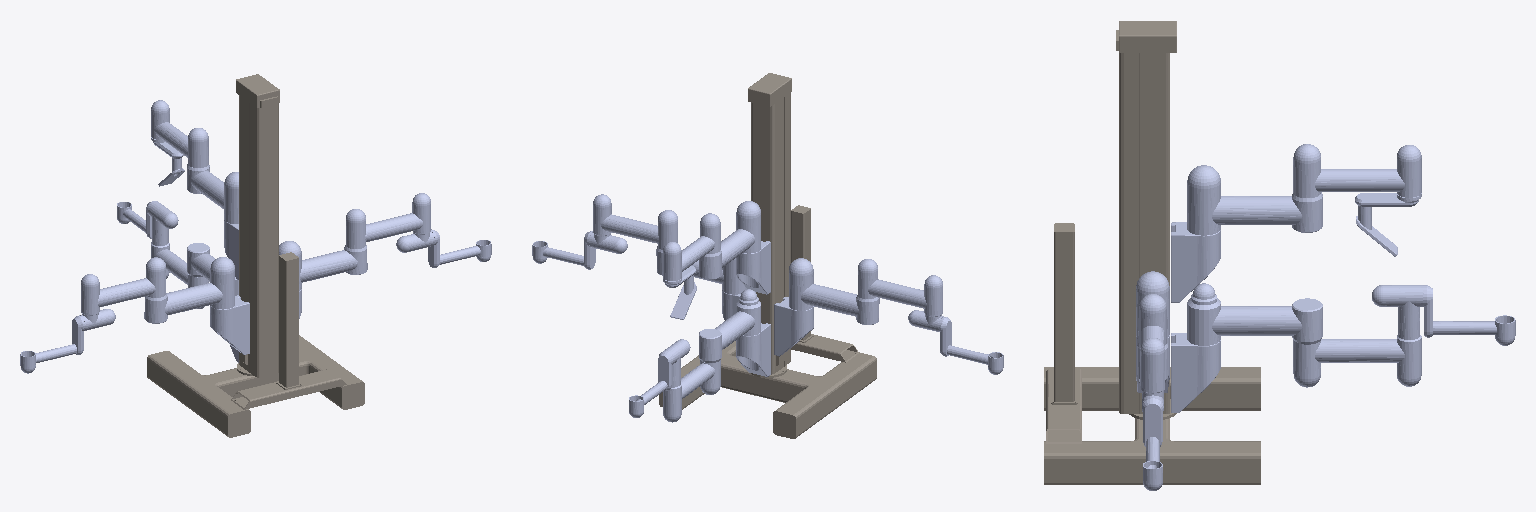
--- Facts derived from the render (not from the file) ---
3 views of the same robot in one strip: view 1: azimuth 30°, elevation 25°; view 2: azimuth 150°, elevation 25°; view 3: azimuth 270°, elevation 25° (orthographic).
Robot: Cart — 20 links, 19 joints (15 continuous, 4 prismatic); root link base_link; default pose: every joint at zero.
Links seen in each view (by area): view 1: base_link, C_A4_L1, C_A4_L2, C_A1_L2, C_A1_L1, C_A2_L2, C_A2_L1, C_A4_L0, C_A4_L4, C_A1_L4, C_A3_L3, C_A3_L1 (+5 smaller); view 2: base_link, C_A4_L1, C_A4_L2, C_A3_L1, C_A2_L1, C_A1_L2, C_A2_L2, C_A3_L2, C_A4_L0, C_A3_L0, C_A2_L0, C_A4_L4 (+6 smaller); view 3: base_link, C_A2_L1, C_A3_L1, C_A2_L2, C_A3_L2, C_A2_L0, C_A3_L0, C_A1_L2, C_A3_L4, C_A3_L3, C_A1_L4, C_A2_L3 (+1 smaller).
Link boxes in pixels (box(x1,y1,x2,y2)): base_link: box(147, 74, 364, 437); C_A4_L1: box(144, 257, 234, 323); C_A4_L2: box(81, 257, 165, 313); C_A1_L2: box(346, 193, 430, 248); C_A1_L1: box(279, 241, 367, 290); C_A2_L2: box(151, 100, 208, 167); C_A2_L1: box(187, 164, 238, 223); C_A4_L0: box(210, 295, 249, 354); C_A4_L4: box(20, 315, 84, 373); C_A1_L4: box(428, 229, 491, 267); C_A3_L3: box(148, 202, 178, 248); C_A3_L1: box(187, 243, 238, 295); base_link: box(659, 73, 876, 438); C_A4_L1: box(789, 258, 879, 324); C_A4_L2: box(858, 259, 942, 314); C_A3_L1: box(699, 289, 760, 362); C_A2_L1: box(699, 201, 760, 279); C_A1_L2: box(593, 194, 677, 249); C_A2_L2: box(663, 213, 720, 280); C_A3_L2: box(663, 360, 720, 422); C_A4_L0: box(774, 297, 813, 356); C_A3_L0: box(736, 323, 770, 376); C_A2_L0: box(736, 241, 770, 294); C_A4_L4: box(939, 317, 1003, 374); base_link: box(1044, 21, 1260, 484); C_A2_L1: box(1187, 165, 1322, 235); C_A3_L1: box(1187, 283, 1322, 345); C_A2_L2: box(1293, 144, 1421, 197); C_A3_L2: box(1293, 339, 1421, 387); C_A2_L0: box(1171, 222, 1220, 302); C_A3_L0: box(1171, 333, 1220, 412); C_A1_L2: box(1139, 294, 1166, 390); C_A3_L4: box(1423, 285, 1515, 345); C_A3_L3: box(1372, 285, 1422, 343); C_A1_L4: box(1142, 397, 1163, 490); C_A2_L3: box(1355, 193, 1421, 256).
Size in the robot's own frame: 3.12 by 2.03 by 1.97 metres.
Meshes: 20 distinct files referenced, 20 mesh visuals loaded (20 binary STL).

URDF robot description (Cart):
<robot
  name="Cart">
  <link
    name="base_link">
    <inertial>
      <origin
        xyz="-0.557849193874323 -0.813264262886105 0.645007171697147"
        rpy="0 0 0" />
      <mass
        value="177.817385553285" />
      <inertia
        ixx="96.5051304293487"
        ixy="-4.96248399612141E-06"
        ixz="3.35340925263716E-05"
        iyy="98.379534963888"
        iyz="-0.78538915055125"
        izz="19.0575205424658" />
    </inertial>
    <visual>
      <origin
        xyz="0 0 0"
        rpy="0 0 0" />
      <geometry>
        <mesh
          filename="package://Cart/meshes/base_link.stl" />
      </geometry>
      <material
        name="">
        <color
          rgba="0.647058823529412 0.619607843137255 0.588235294117647 1" />
      </material>
    </visual>
    <collision>
      <origin
        xyz="0 0 0"
        rpy="0 0 0" />
      <geometry>
        <mesh
          filename="package://Cart/meshes/base_link.stl" />
      </geometry>
    </collision>
  </link>
  <link
    name="C_A1_L0">
    <inertial>
      <origin
        xyz="0.075953578554958 -2.03636284834552E-07 0.143692250626163"
        rpy="0 0 0" />
      <mass
        value="11.0926940805219" />
      <inertia
        ixx="0.10560942970055"
        ixy="-5.05140460543134E-07"
        ixz="-0.0121806324947753"
        iyy="0.109590130168998"
        iyz="-1.95142624563224E-07"
        izz="0.0469067208116145" />
    </inertial>
    <visual>
      <origin
        xyz="0 0 0"
        rpy="0 0 0" />
      <geometry>
        <mesh
          filename="package://Cart/meshes/C_A1_L0.stl" />
      </geometry>
      <material
        name="">
        <color
          rgba="0.792156862745098 0.819607843137255 0.933333333333333 1" />
      </material>
    </visual>
    <collision>
      <origin
        xyz="0 0 0"
        rpy="0 0 0" />
      <geometry>
        <mesh
          filename="package://Cart/meshes/C_A1_L0.stl" />
      </geometry>
    </collision>
  </link>
  <joint
    name="C_A1_L0"
    type="prismatic">
    <origin
      xyz="-0.33735 -0.75532 0.61185"
      rpy="-3.1416 -1.1102E-14 3.1416" />
    <parent
      link="base_link" />
    <child
      link="C_A1_L0" />
    <axis
      xyz="0 0 -1" />
    <limit
      lower="0"
      upper="1.2223"
      effort="50"
      velocity="50" />
  </joint>
  <link
    name="C_A1_L1">
    <inertial>
      <origin
        xyz="-2.44362590706704E-06 0.187250782553175 -0.108487242469459"
        rpy="0 0 0" />
      <mass
        value="4.35187990646796" />
      <inertia
        ixx="0.174355409525625"
        ixy="8.33391444074635E-07"
        ixz="1.21244554738311E-07"
        iyy="0.0321699406659818"
        iyz="-0.0223552208986747"
        izz="0.160834852672872" />
    </inertial>
    <visual>
      <origin
        xyz="0 0 0"
        rpy="0 0 0" />
      <geometry>
        <mesh
          filename="package://Cart/meshes/C_A1_L1.stl" />
      </geometry>
      <material
        name="">
        <color
          rgba="0.792156862745098 0.819607843137255 0.933333333333333 1" />
      </material>
    </visual>
    <collision>
      <origin
        xyz="0 0 0"
        rpy="0 0 0" />
      <geometry>
        <mesh
          filename="package://Cart/meshes/C_A1_L1.stl" />
      </geometry>
    </collision>
  </link>
  <joint
    name="C_A1_L1"
    type="continuous">
    <origin
      xyz="0 0 0"
      rpy="-1.11022302462517E-14 0 1.5707963267949" />
    <parent
      link="C_A1_L0" />
    <child
      link="C_A1_L1" />
    <axis
      xyz="0 0 -1" />
  </joint>
  <link
    name="C_A1_L2">
    <inertial>
      <origin
        xyz="0.212057687401799 -6.03601295601219E-06 0.0904988108593199"
        rpy="0 0 0" />
      <mass
        value="3.40100692221784" />
      <inertia
        ixx="0.0171438557598793"
        ixy="1.18000074447512E-06"
        ixz="0.00104805117272118"
        iyy="0.126224646339105"
        iyz="-5.52416303730912E-07"
        izz="0.118325883705" />
    </inertial>
    <visual>
      <origin
        xyz="0 0 0"
        rpy="0 0 0" />
      <geometry>
        <mesh
          filename="package://Cart/meshes/C_A1_L2.stl" />
      </geometry>
      <material
        name="">
        <color
          rgba="0.792156862745098 0.819607843137255 0.933333333333333 1" />
      </material>
    </visual>
    <collision>
      <origin
        xyz="0 0 0"
        rpy="0 0 0" />
      <geometry>
        <mesh
          filename="package://Cart/meshes/C_A1_L2.stl" />
      </geometry>
    </collision>
  </link>
  <joint
    name="C_A1_L2"
    type="continuous">
    <origin
      xyz="0 0.4445 -0.171"
      rpy="3.14159265358979 0 1.5707963267949" />
    <parent
      link="C_A1_L1" />
    <child
      link="C_A1_L2" />
    <axis
      xyz="0 0 1" />
  </joint>
  <link
    name="C_A1_L3">
    <inertial>
      <origin
        xyz="-7.80618542028932E-07 0.0671596733734499 -0.0458074866733074"
        rpy="0 0 0" />
      <mass
        value="0.955185180813725" />
      <inertia
        ixx="0.00502060305122404"
        ixy="1.37380469784994E-08"
        ixz="6.07283892713778E-08"
        iyy="0.0048525897193261"
        iyz="0.000255460605424329"
        izz="0.00220471024636927" />
    </inertial>
    <visual>
      <origin
        xyz="0 0 0"
        rpy="0 0 0" />
      <geometry>
        <mesh
          filename="package://Cart/meshes/C_A1_L3.stl" />
      </geometry>
      <material
        name="">
        <color
          rgba="0.792156862745098 0.819607843137255 0.933333333333333 1" />
      </material>
    </visual>
    <collision>
      <origin
        xyz="0 0 0"
        rpy="0 0 0" />
      <geometry>
        <mesh
          filename="package://Cart/meshes/C_A1_L3.stl" />
      </geometry>
    </collision>
  </link>
  <joint
    name="C_A1_L3"
    type="continuous">
    <origin
      xyz="0.43815 0 0"
      rpy="-1.5707963267949 0 -1.5707963267949" />
    <parent
      link="C_A1_L2" />
    <child
      link="C_A1_L3" />
    <axis
      xyz="0 -1 0" />
  </joint>
  <link
    name="C_A1_L4">
    <inertial>
      <origin
        xyz="4.70384754480691E-08 0.128588326667814 0.0987103875643585"
        rpy="0 0 0" />
      <mass
        value="3.11504410574449" />
      <inertia
        ixx="0.0796456742281321"
        ixy="-2.48551056610334E-08"
        ixz="-1.34409390260954E-09"
        iyy="0.0186083564141078"
        iyz="-0.0226942177256411"
        izz="0.0642473147196267" />
    </inertial>
    <visual>
      <origin
        xyz="0 0 0"
        rpy="0 0 0" />
      <geometry>
        <mesh
          filename="package://Cart/meshes/C_A1_L4.stl" />
      </geometry>
      <material
        name="">
        <color
          rgba="0.792156862745098 0.819607843137255 0.933333333333333 1" />
      </material>
    </visual>
    <collision>
      <origin
        xyz="0 0 0"
        rpy="0 0 0" />
      <geometry>
        <mesh
          filename="package://Cart/meshes/C_A1_L4.stl" />
      </geometry>
    </collision>
  </link>
  <joint
    name="C_A1_L4"
    type="continuous">
    <origin
      xyz="0 0.0830000000000001 0.0600000000000001"
      rpy="1.5707963267949 0 3.14159265358979" />
    <parent
      link="C_A1_L3" />
    <child
      link="C_A1_L4" />
    <axis
      xyz="0 1 0" />
  </joint>
  <link
    name="C_A2_L0">
    <inertial>
      <origin
        xyz="0.0759535785549599 -2.03636285056596E-07 0.143692250626162"
        rpy="0 0 0" />
      <mass
        value="11.0926940805219" />
      <inertia
        ixx="0.10560942970055"
        ixy="-5.0514046057063E-07"
        ixz="-0.012180632494776"
        iyy="0.109590130168998"
        iyz="-1.95142624537163E-07"
        izz="0.0469067208116149" />
    </inertial>
    <visual>
      <origin
        xyz="0 0 0"
        rpy="0 0 0" />
      <geometry>
        <mesh
          filename="package://Cart/meshes/C_A2_L0.stl" />
      </geometry>
      <material
        name="">
        <color
          rgba="0.792156862745098 0.819607843137255 0.933333333333333 1" />
      </material>
    </visual>
    <collision>
      <origin
        xyz="0 0 0"
        rpy="0 0 0" />
      <geometry>
        <mesh
          filename="package://Cart/meshes/C_A2_L0.stl" />
      </geometry>
    </collision>
  </link>
  <joint
    name="C_A2_L0"
    type="prismatic">
    <origin
      xyz="-0.55785 -0.53482 1.0137"
      rpy="3.1416 -6.123E-17 -1.5708" />
    <parent
      link="base_link" />
    <child
      link="C_A2_L0" />
    <axis
      xyz="0 0 -1" />
    <limit
      lower="0"
      upper="0.82045"
      effort="50"
      velocity="50" />
  </joint>
  <link
    name="C_A2_L1">
    <inertial>
      <origin
        xyz="-2.44380844383052E-06 -0.187250782553173 0.108487242469458"
        rpy="0 0 0" />
      <mass
        value="4.35187990646815" />
      <inertia
        ixx="0.174355409525629"
        ixy="-8.33530046686598E-07"
        ixz="-1.21266348753841E-07"
        iyy="0.0321699406659832"
        iyz="-0.0223552208986752"
        izz="0.160834852672877" />
    </inertial>
    <visual>
      <origin
        xyz="0 0 0"
        rpy="0 0 0" />
      <geometry>
        <mesh
          filename="package://Cart/meshes/C_A2_L1.stl" />
      </geometry>
      <material
        name="">
        <color
          rgba="0.792156862745098 0.819607843137255 0.933333333333333 1" />
      </material>
    </visual>
    <collision>
      <origin
        xyz="0 0 0"
        rpy="0 0 0" />
      <geometry>
        <mesh
          filename="package://Cart/meshes/C_A2_L1.stl" />
      </geometry>
    </collision>
  </link>
  <joint
    name="C_A2_L1"
    type="continuous">
    <origin
      xyz="0 0 0"
      rpy="3.14159265358979 0 1.5707963267949" />
    <parent
      link="C_A2_L0" />
    <child
      link="C_A2_L1" />
    <axis
      xyz="0 0 1" />
  </joint>
  <link
    name="C_A2_L2">
    <inertial>
      <origin
        xyz="0.212057687401794 6.03665296139422E-06 -0.0904988108593126"
        rpy="0 0 0" />
      <mass
        value="3.40100692221722" />
      <inertia
        ixx="0.0171438557598805"
        ixy="-1.18010707869087E-06"
        ixz="-0.00104805117272175"
        iyy="0.126224646339101"
        iyz="-5.52417327070742E-07"
        izz="0.118325883704996" />
    </inertial>
    <visual>
      <origin
        xyz="0 0 0"
        rpy="0 0 0" />
      <geometry>
        <mesh
          filename="package://Cart/meshes/C_A2_L2.stl" />
      </geometry>
      <material
        name="">
        <color
          rgba="0.792156862745098 0.819607843137255 0.933333333333333 1" />
      </material>
    </visual>
    <collision>
      <origin
        xyz="0 0 0"
        rpy="0 0 0" />
      <geometry>
        <mesh
          filename="package://Cart/meshes/C_A2_L2.stl" />
      </geometry>
    </collision>
  </link>
  <joint
    name="C_A2_L2"
    type="continuous">
    <origin
      xyz="0 -0.4445 0.171"
      rpy="3.14159265358979 0 -1.5707963267949" />
    <parent
      link="C_A2_L1" />
    <child
      link="C_A2_L2" />
    <axis
      xyz="0 0 -1" />
  </joint>
  <link
    name="C_A2_L3">
    <inertial>
      <origin
        xyz="0.101768197599805 0.0781722391509527 -9.32107030449103E-08"
        rpy="0 0 0" />
      <mass
        value="3.4650484513455" />
      <inertia
        ixx="0.0231009121493162"
        ixy="-0.00596525910973689"
        ixz="3.34337024083484E-08"
        iyy="0.0229730063480829"
        iyz="2.41536265588646E-08"
        izz="0.0423496868455047" />
    </inertial>
    <visual>
      <origin
        xyz="0 0 0"
        rpy="0 0 0" />
      <geometry>
        <mesh
          filename="package://Cart/meshes/C_A2_L3.stl" />
      </geometry>
      <material
        name="">
        <color
          rgba="0.792156862745098 0.819607843137255 0.933333333333333 1" />
      </material>
    </visual>
    <collision>
      <origin
        xyz="0 0 0"
        rpy="0 0 0" />
      <geometry>
        <mesh
          filename="package://Cart/meshes/C_A2_L3.stl" />
      </geometry>
    </collision>
  </link>
  <joint
    name="C_A2_L3"
    type="continuous">
    <origin
      xyz="0.43815 0 0"
      rpy="1.5707963267949 0 3.14159265358979" />
    <parent
      link="C_A2_L2" />
    <child
      link="C_A2_L3" />
    <axis
      xyz="0 -1 0" />
  </joint>
  <link
    name="C_A3_L0">
    <inertial>
      <origin
        xyz="0.0759535785549602 -2.03636284612507E-07 0.143692250626162"
        rpy="0 0 0" />
      <mass
        value="11.0926940805219" />
      <inertia
        ixx="0.10560942970055"
        ixy="-5.05140460539399E-07"
        ixz="-0.0121806324947762"
        iyy="0.109590130168997"
        iyz="-1.95142624557971E-07"
        izz="0.0469067208116145" />
    </inertial>
    <visual>
      <origin
        xyz="0 0 0"
        rpy="0 0 0" />
      <geometry>
        <mesh
          filename="package://Cart/meshes/C_A3_L0.stl" />
      </geometry>
      <material
        name="">
        <color
          rgba="0.792156862745098 0.819607843137255 0.933333333333333 1" />
      </material>
    </visual>
    <collision>
      <origin
        xyz="0 0 0"
        rpy="0 0 0" />
      <geometry>
        <mesh
          filename="package://Cart/meshes/C_A3_L0.stl" />
      </geometry>
    </collision>
  </link>
  <joint
    name="C_A3_L0"
    type="prismatic">
    <origin
      xyz="-0.55785 -0.53482 0.48985"
      rpy="3.1416 -6.123E-17 -1.5708" />
    <parent
      link="base_link" />
    <child
      link="C_A3_L0" />
    <axis
      xyz="0 0 -1" />
    <limit
      lower="0"
      upper="0.82045"
      effort="50"
      velocity="50" />
  </joint>
  <link
    name="C_A3_L1">
    <inertial>
      <origin
        xyz="-6.86961344475989E-07 -0.201379579686525 0.0996902493558574"
        rpy="0 0 0" />
      <mass
        value="7.77379196971775" />
      <inertia
        ixx="0.291301856846876"
        ixy="-7.20625438292036E-07"
        ixz="-9.30061512483615E-08"
        iyy="0.041443547472612"
        iyz="-0.0165474441099319"
        izz="0.279800325563782" />
    </inertial>
    <visual>
      <origin
        xyz="0 0 0"
        rpy="0 0 0" />
      <geometry>
        <mesh
          filename="package://Cart/meshes/C_A3_L1.stl" />
      </geometry>
      <material
        name="">
        <color
          rgba="0.792156862745098 0.819607843137255 0.933333333333333 1" />
      </material>
    </visual>
    <collision>
      <origin
        xyz="0 0 0"
        rpy="0 0 0" />
      <geometry>
        <mesh
          filename="package://Cart/meshes/C_A3_L1.stl" />
      </geometry>
    </collision>
  </link>
  <joint
    name="C_A3_L1"
    type="continuous">
    <origin
      xyz="0 0 0"
      rpy="3.14159265358979 0 1.5707963267949" />
    <parent
      link="C_A3_L0" />
    <child
      link="C_A3_L1" />
    <axis
      xyz="0 0 1" />
  </joint>
  <link
    name="C_A3_L2">
    <inertial>
      <origin
        xyz="0.212057687401803 -6.03537295040812E-06 0.090498810859328"
        rpy="0 0 0" />
      <mass
        value="3.4010069222184" />
      <inertia
        ixx="0.0171438557598778"
        ixy="1.1798944102949E-06"
        ixz="0.00104805117272044"
        iyy="0.126224646339108"
        iyz="-5.52415280414858E-07"
        izz="0.118325883705004" />
    </inertial>
    <visual>
      <origin
        xyz="0 0 0"
        rpy="0 0 0" />
      <geometry>
        <mesh
          filename="package://Cart/meshes/C_A3_L2.stl" />
      </geometry>
      <material
        name="">
        <color
          rgba="0.792156862745098 0.819607843137255 0.933333333333333 1" />
      </material>
    </visual>
    <collision>
      <origin
        xyz="0 0 0"
        rpy="0 0 0" />
      <geometry>
        <mesh
          filename="package://Cart/meshes/C_A3_L2.stl" />
      </geometry>
    </collision>
  </link>
  <joint
    name="C_A3_L2"
    type="continuous">
    <origin
      xyz="0 -0.4445 0"
      rpy="3.14159265358979 0 -1.5707963267949" />
    <parent
      link="C_A3_L1" />
    <child
      link="C_A3_L2" />
    <axis
      xyz="0 0 -1" />
  </joint>
  <link
    name="C_A3_L3">
    <inertial>
      <origin
        xyz="-5.48926565646646E-07 -0.149272124807621 0.0296956113717952"
        rpy="0 0 0" />
      <mass
        value="1.47309340265676" />
      <inertia
        ixx="0.0132145111506709"
        ixy="-1.08032566856272E-07"
        ixz="2.89718779717797E-08"
        iyy="0.00662192684676566"
        iyz="0.00235985056985546"
        izz="0.0096948677474233" />
    </inertial>
    <visual>
      <origin
        xyz="0 0 0"
        rpy="0 0 0" />
      <geometry>
        <mesh
          filename="package://Cart/meshes/C_A3_L3.stl" />
      </geometry>
      <material
        name="">
        <color
          rgba="0.792156862745098 0.819607843137255 0.933333333333333 1" />
      </material>
    </visual>
    <collision>
      <origin
        xyz="0 0 0"
        rpy="0 0 0" />
      <geometry>
        <mesh
          filename="package://Cart/meshes/C_A3_L3.stl" />
      </geometry>
    </collision>
  </link>
  <joint
    name="C_A3_L3"
    type="continuous">
    <origin
      xyz="0.43815 0 0"
      rpy="1.5707963267949 0 -1.5707963267949" />
    <parent
      link="C_A3_L2" />
    <child
      link="C_A3_L3" />
    <axis
      xyz="0 -1 0" />
  </joint>
  <link
    name="C_A3_L4">
    <inertial>
      <origin
        xyz="4.69131279379198E-08 0.128588326667815 0.108710387564358"
        rpy="0 0 0" />
      <mass
        value="3.11504410574449" />
      <inertia
        ixx="0.0796456742281321"
        ixy="-2.47956065801551E-08"
        ixz="-1.32197163913809E-09"
        iyy="0.0186083564141077"
        iyz="-0.022694217725641"
        izz="0.0642473147196267" />
    </inertial>
    <visual>
      <origin
        xyz="0 0 0"
        rpy="0 0 0" />
      <geometry>
        <mesh
          filename="package://Cart/meshes/C_A3_L4.stl" />
      </geometry>
      <material
        name="">
        <color
          rgba="0.792156862745098 0.819607843137255 0.933333333333333 1" />
      </material>
    </visual>
    <collision>
      <origin
        xyz="0 0 0"
        rpy="0 0 0" />
      <geometry>
        <mesh
          filename="package://Cart/meshes/C_A3_L4.stl" />
      </geometry>
    </collision>
  </link>
  <joint
    name="C_A3_L4"
    type="continuous">
    <origin
      xyz="0 -0.203199999999999 -0.06"
      rpy="-1.5707963267949 0 0" />
    <parent
      link="C_A3_L3" />
    <child
      link="C_A3_L4" />
    <axis
      xyz="0 -1 0" />
  </joint>
  <link
    name="C_A4_L0">
    <inertial>
      <origin
        xyz="0.0859535785204426 -2.03645474483594E-07 0.143692250688602"
        rpy="0 0 0" />
      <mass
        value="11.0926940733976" />
      <inertia
        ixx="0.105609429627316"
        ixy="-5.05131095097567E-07"
        ixz="-0.0121806325387437"
        iyy="0.109590130077433"
        iyz="-1.95152527838409E-07"
        izz="0.0469067207933245" />
    </inertial>
    <visual>
      <origin
        xyz="0 0 0"
        rpy="0 0 0" />
      <geometry>
        <mesh
          filename="package://Cart/meshes/C_A4_L0.stl" />
      </geometry>
      <material
        name="">
        <color
          rgba="0.792156862745098 0.819607843137255 0.933333333333333 1" />
      </material>
    </visual>
    <collision>
      <origin
        xyz="0 0 0"
        rpy="0 0 0" />
      <geometry>
        <mesh
          filename="package://Cart/meshes/C_A4_L0.stl" />
      </geometry>
    </collision>
  </link>
  <joint
    name="C_A4_L0"
    type="prismatic">
    <origin
      xyz="-0.78835 -0.75532 0.61185"
      rpy="3.1416 -6.6613E-14 4.0788E-30" />
    <parent
      link="base_link" />
    <child
      link="C_A4_L0" />
    <axis
      xyz="0 0 -1" />
    <limit
      lower="0"
      upper="1.2223"
      effort="50"
      velocity="50" />
  </joint>
  <link
    name="C_A4_L1">
    <inertial>
      <origin
        xyz="-2.44380844316439E-06 0.187250782553174 -0.108487242469458"
        rpy="0 0 0" />
      <mass
        value="4.35187990646818" />
      <inertia
        ixx="0.174355409525629"
        ixy="8.33530046682483E-07"
        ixz="1.21266348725112E-07"
        iyy="0.0321699406659832"
        iyz="-0.0223552208986752"
        izz="0.160834852672877" />
    </inertial>
    <visual>
      <origin
        xyz="0 0 0"
        rpy="0 0 0" />
      <geometry>
        <mesh
          filename="package://Cart/meshes/C_A4_L1.stl" />
      </geometry>
      <material
        name="">
        <color
          rgba="0.792156862745098 0.819607843137255 0.933333333333333 1" />
      </material>
    </visual>
    <collision>
      <origin
        xyz="0 0 0"
        rpy="0 0 0" />
      <geometry>
        <mesh
          filename="package://Cart/meshes/C_A4_L1.stl" />
      </geometry>
    </collision>
  </link>
  <joint
    name="C_A4_L1"
    type="continuous">
    <origin
      xyz="0.01 0 0"
      rpy="-6.66133814775079E-14 0 1.5707963267949" />
    <parent
      link="C_A4_L0" />
    <child
      link="C_A4_L1" />
    <axis
      xyz="0 0 -1" />
  </joint>
  <link
    name="C_A4_L2">
    <inertial>
      <origin
        xyz="0.212057687401795 -6.0366529622824E-06 0.0904988108593124"
        rpy="0 0 0" />
      <mass
        value="3.40100692221721" />
      <inertia
        ixx="0.0171438557598805"
        ixy="1.18010707872497E-06"
        ixz="0.00104805117272164"
        iyy="0.1262246463391"
        iyz="-5.52417327106105E-07"
        izz="0.118325883704996" />
    </inertial>
    <visual>
      <origin
        xyz="0 0 0"
        rpy="0 0 0" />
      <geometry>
        <mesh
          filename="package://Cart/meshes/C_A4_L2.stl" />
      </geometry>
      <material
        name="">
        <color
          rgba="0.792156862745098 0.819607843137255 0.933333333333333 1" />
      </material>
    </visual>
    <collision>
      <origin
        xyz="0 0 0"
        rpy="0 0 0" />
      <geometry>
        <mesh
          filename="package://Cart/meshes/C_A4_L2.stl" />
      </geometry>
    </collision>
  </link>
  <joint
    name="C_A4_L2"
    type="continuous">
    <origin
      xyz="0 0.444499999999999 -0.171000000000001"
      rpy="3.14159265358979 0 1.5707963267949" />
    <parent
      link="C_A4_L1" />
    <child
      link="C_A4_L2" />
    <axis
      xyz="0 0 1" />
  </joint>
  <link
    name="C_A4_L3">
    <inertial>
      <origin
        xyz="-7.80663182209373E-07 -0.0671596733734502 0.0458074866733054"
        rpy="0 0 0" />
      <mass
        value="0.955185180813738" />
      <inertia
        ixx="0.00502060305122423"
        ixy="-1.37382965101666E-08"
        ixz="-6.0725644206211E-08"
        iyy="0.0048525897193261"
        iyz="0.000255460605424373"
        izz="0.00220471024636916" />
    </inertial>
    <visual>
      <origin
        xyz="0 0 0"
        rpy="0 0 0" />
      <geometry>
        <mesh
          filename="package://Cart/meshes/C_A4_L3.stl" />
      </geometry>
      <material
        name="">
        <color
          rgba="0.792156862745098 0.819607843137255 0.933333333333333 1" />
      </material>
    </visual>
    <collision>
      <origin
        xyz="0 0 0"
        rpy="0 0 0" />
      <geometry>
        <mesh
          filename="package://Cart/meshes/C_A4_L3.stl" />
      </geometry>
    </collision>
  </link>
  <joint
    name="C_A4_L3"
    type="continuous">
    <origin
      xyz="0.43815 0 0"
      rpy="1.5707963267949 0 -1.5707963267949" />
    <parent
      link="C_A4_L2" />
    <child
      link="C_A4_L3" />
    <axis
      xyz="0 1 0" />
  </joint>
  <link
    name="C_A4_L4">
    <inertial>
      <origin
        xyz="4.69131278268975E-08 0.128588326761395 0.108710387564359"
        rpy="0 0 0" />
      <mass
        value="3.11504410574443" />
      <inertia
        ixx="0.0796456742281314"
        ixy="-2.47956065639044E-08"
        ixz="-1.32197164170627E-09"
        iyy="0.0186083564141076"
        iyz="-0.0226942177256409"
        izz="0.064247314719626" />
    </inertial>
    <visual>
      <origin
        xyz="0 0 0"
        rpy="0 0 0" />
      <geometry>
        <mesh
          filename="package://Cart/meshes/C_A4_L4.stl" />
      </geometry>
      <material
        name="">
        <color
          rgba="0.792156862745098 0.819607843137255 0.933333333333333 1" />
      </material>
    </visual>
    <collision>
      <origin
        xyz="0 0 0"
        rpy="0 0 0" />
      <geometry>
        <mesh
          filename="package://Cart/meshes/C_A4_L4.stl" />
      </geometry>
    </collision>
  </link>
  <joint
    name="C_A4_L4"
    type="continuous">
    <origin
      xyz="0 -0.0730000000000001 -0.0599999999064196"
      rpy="-1.5707963267949 0 3.14159265358979" />
    <parent
      link="C_A4_L3" />
    <child
      link="C_A4_L4" />
    <axis
      xyz="0 -1 0" />
  </joint>
</robot>
